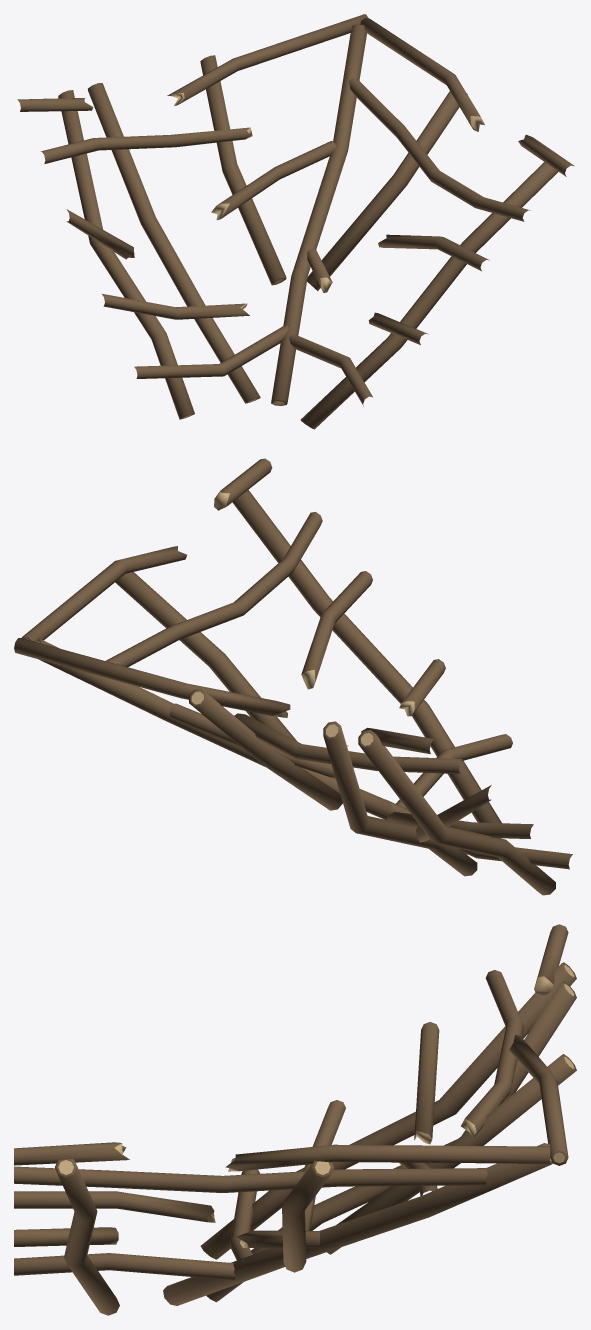
Rendered from rpgpp_av_roof_support_01_9x4x3_corner_01a.gltf.
3 renders of one model, top to bottom at view 1: azimuth 30°, elevation 25°; view 2: azimuth 150°, elevation 25°; view 3: azimuth 270°, elevation 25°, orthographic. The views are drawn at different scales.
Visible parts, largest first — view 1: rpgpp_av_roof_support_01_9x4x3_corner_01a; view 2: rpgpp_av_roof_support_01_9x4x3_corner_01a; view 3: rpgpp_av_roof_support_01_9x4x3_corner_01a.
Part boxes in pixels (x1,y1,x2,y2): rpgpp_av_roof_support_01_9x4x3_corner_01a: (17,14,574,429); rpgpp_av_roof_support_01_9x4x3_corner_01a: (14,458,572,895); rpgpp_av_roof_support_01_9x4x3_corner_01a: (14,924,576,1315).
Size of the model in its own units: 0.0766 by 0.0484 by 0.0785.
Materials: 1 (1 with a texture image).
